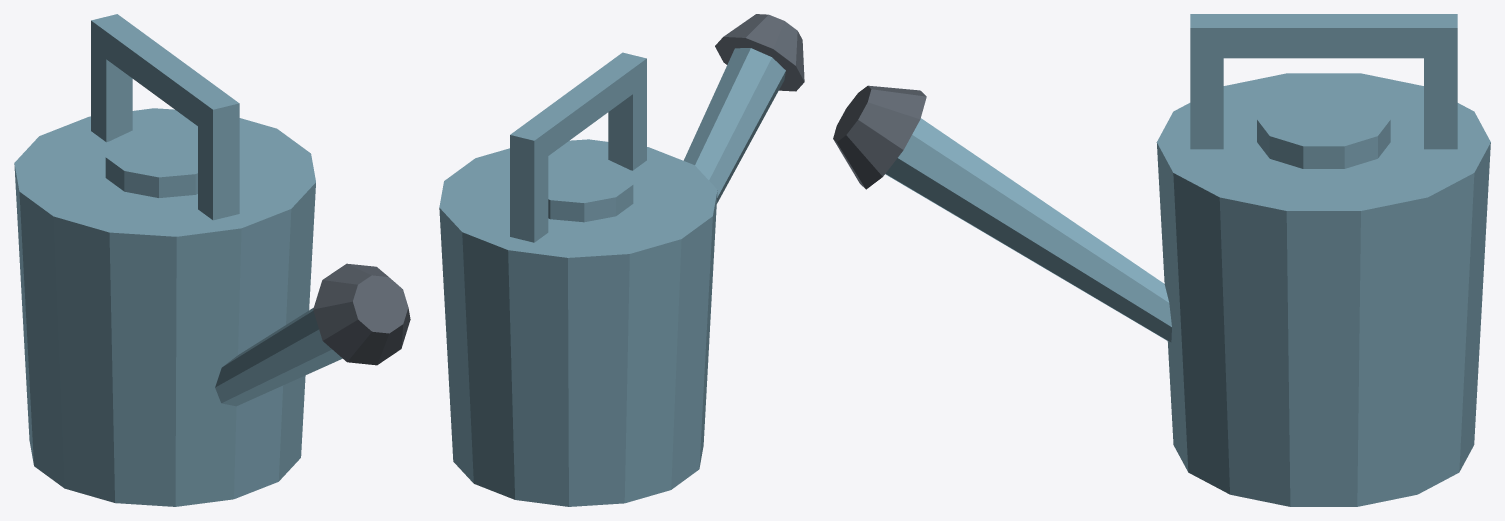
Rendered from f07-gembor.glb.
3 renders of one model, left to right at view 1: azimuth 30°, elevation 25°; view 2: azimuth 150°, elevation 25°; view 3: azimuth 270°, elevation 25°, orthographic. The views are drawn at different scales.
Parts seen in each view (by area): view 1: EX_kebun:seng, EX_kebun:besi.001; view 2: EX_kebun:seng, EX_kebun:besi.001; view 3: EX_kebun:seng, EX_kebun:besi.001.
Part boxes in pixels (<box>): EX_kebun:seng: <box>14,14,342,506</box>; EX_kebun:besi.001: <box>313,263,410,365</box>; EX_kebun:seng: <box>439,48,785,506</box>; EX_kebun:besi.001: <box>715,14,804,91</box>; EX_kebun:seng: <box>885,14,1490,506</box>; EX_kebun:besi.001: <box>833,85,926,189</box>.
Size of the model in its own units: 0.195 by 0.28 by 0.3938.
